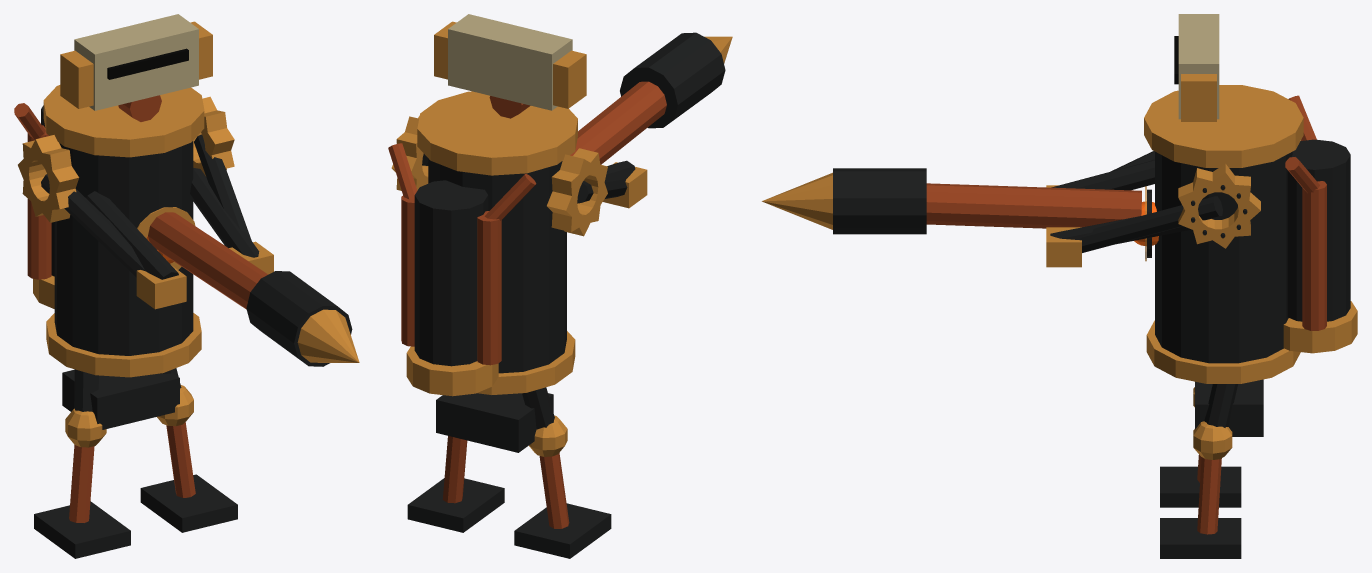
The model's file is ENEMY_LancerAutomaton_Blockout_LOD0.obj.
3 renders of one model, left to right at view 1: azimuth 30°, elevation 25°; view 2: azimuth 150°, elevation 25°; view 3: azimuth 270°, elevation 25°, orthographic.
Visible parts, largest first — view 1: tall_pressure_torso, upper_brass_band, needle_head_mask_plate, pressure_lance_barrel, muzzle_collar, narrow_pelvis, lower_brass_band, left_small_shoulder_gear, right_stilt_leg_broad_foot, left_stilt_leg_broad_foot, lance_pressure_nozzle, left_thin_arm_brace (+19 smaller); view 2: tall_pressure_torso, tall_pipe_backpack_pressure_tank, upper_brass_band, needle_head_mask_plate, muzzle_collar, narrow_pelvis, pressure_lance_barrel, tall_pipe_backpack_left_pipe, left_small_shoulder_gear, left_stilt_leg_broad_foot, right_stilt_leg_broad_foot, tall_pipe_backpack_mount_collar (+14 smaller); view 3: tall_pressure_torso, upper_brass_band, pressure_lance_barrel, tall_pipe_backpack_pressure_tank, muzzle_collar, right_small_shoulder_gear, tall_pipe_backpack_right_pipe, lower_brass_band, right_stilt_leg_broad_foot, needle_head_mask_plate, right_thin_arm_brace, left_stilt_leg_broad_foot (+10 smaller).
Boxes of the visible parts, left/top/right/bottom form: tall_pressure_torso: left=54, top=141, right=193, bottom=355; upper_brass_band: left=43, top=85, right=204, bottom=157; needle_head_mask_plate: left=74, top=14, right=198, bottom=110; pressure_lance_barrel: left=148, top=212, right=267, bottom=309; muzzle_collar: left=246, top=271, right=352, bottom=366; narrow_pelvis: left=62, top=369, right=179, bottom=429; lower_brass_band: left=46, top=313, right=201, bottom=377; left_small_shoulder_gear: left=18, top=135, right=79, bottom=222; right_stilt_leg_broad_foot: left=140, top=474, right=237, bottom=532; left_stilt_leg_broad_foot: left=34, top=501, right=130, bottom=558; lance_pressure_nozzle: left=297, top=309, right=359, bottom=362; left_thin_arm_brace: left=41, top=174, right=145, bottom=277; tall_pressure_torso: left=428, top=158, right=566, bottom=373; tall_pipe_backpack_pressure_tank: left=414, top=180, right=488, bottom=366; upper_brass_band: left=417, top=91, right=577, bottom=175; needle_head_mask_plate: left=448, top=14, right=572, bottom=110; muzzle_collar: left=620, top=32, right=725, bottom=128; narrow_pelvis: left=436, top=393, right=553, bottom=452; pressure_lance_barrel: left=570, top=81, right=666, bottom=164; tall_pipe_backpack_left_pipe: left=477, top=211, right=501, bottom=365; left_small_shoulder_gear: left=547, top=148, right=607, bottom=236; left_stilt_leg_broad_foot: left=514, top=503, right=611, bottom=558; right_stilt_leg_broad_foot: left=407, top=478, right=504, bottom=532; tall_pipe_backpack_mount_collar: left=406, top=346, right=498, bottom=396; tall_pressure_torso: left=1155, top=151, right=1292, bottom=363; upper_brass_band: left=1144, top=85, right=1303, bottom=167; pressure_lance_barrel: left=926, top=183, right=1141, bottom=228; tall_pipe_backpack_pressure_tank: left=1287, top=139, right=1350, bottom=321; muzzle_collar: left=833, top=168, right=926, bottom=234; right_small_shoulder_gear: left=1178, top=164, right=1260, bottom=248; tall_pipe_backpack_right_pipe: left=1302, top=181, right=1326, bottom=330; lower_brass_band: left=1146, top=320, right=1300, bottom=383; right_stilt_leg_broad_foot: left=1160, top=518, right=1241, bottom=558; needle_head_mask_plate: left=1178, top=14, right=1219, bottom=119; right_thin_arm_brace: left=1080, top=196, right=1222, bottom=252; left_stilt_leg_broad_foot: left=1160, top=466, right=1241, bottom=507.
Bounding box in the file's own units: 0.7344 × 1.93 × 2.17.
